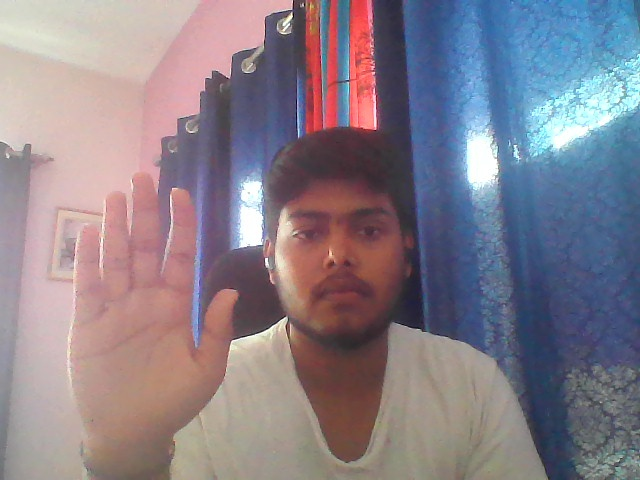Hello: (62, 168, 245, 455)
